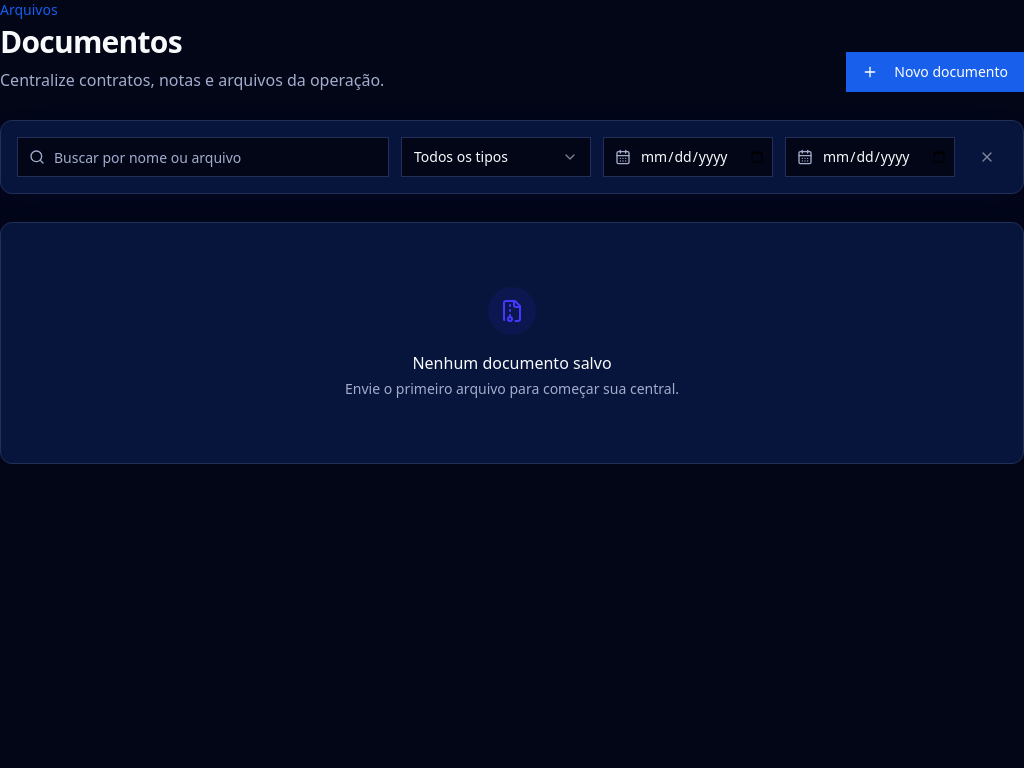
Test: DocumentsPage › permite selecionar múltiplos arquivos
Step 1. Click the button "Novo documento" → click(935, 72), box [846, 52, 1023, 92]
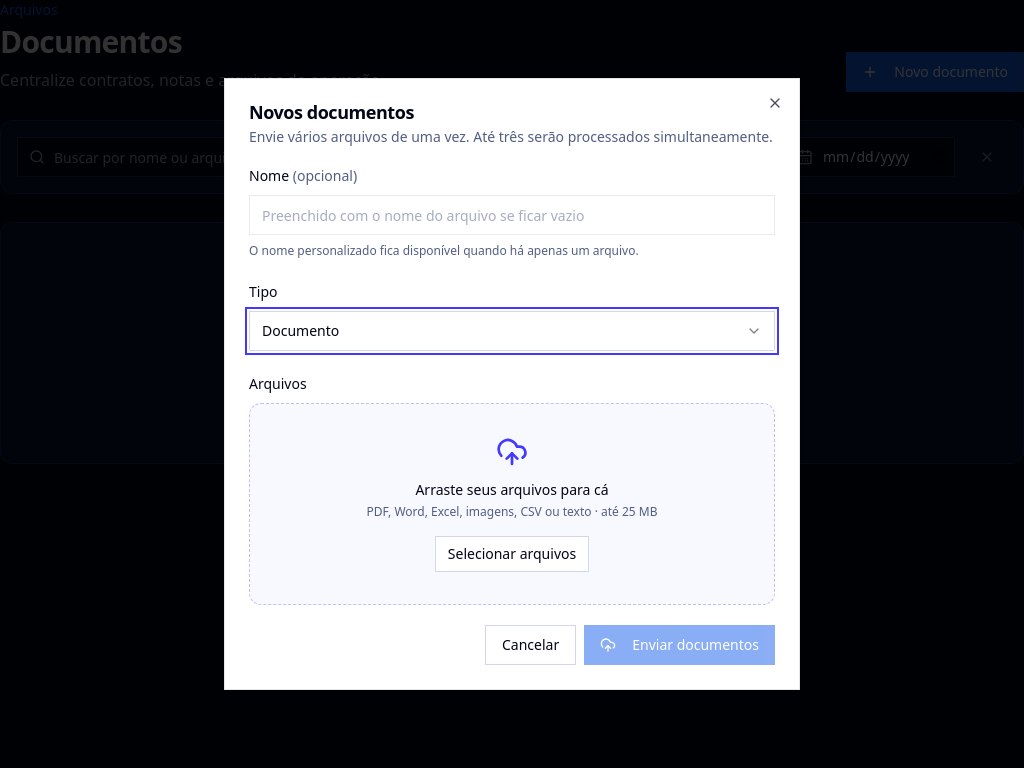
Expected: the file field with id "document-file" is shown, [225, 484, 799, 524]
